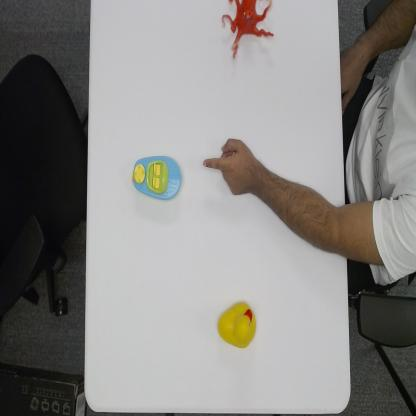Arm: (261, 155, 395, 264)
Boat: (130, 153, 183, 202)
Duck: (216, 298, 258, 350)
Hand: (202, 136, 255, 199)
Octopus: (221, 0, 275, 59)
